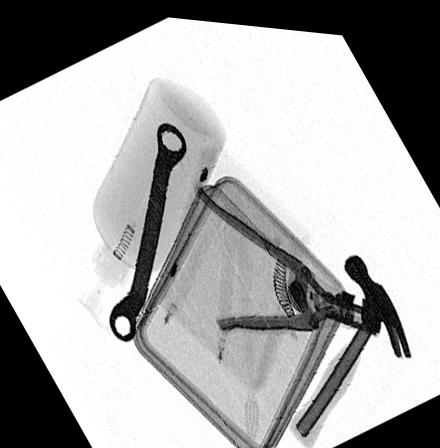Hammer: (282, 247, 412, 448)
Pliers: (196, 182, 377, 328)
Wrench: (107, 116, 187, 337)
